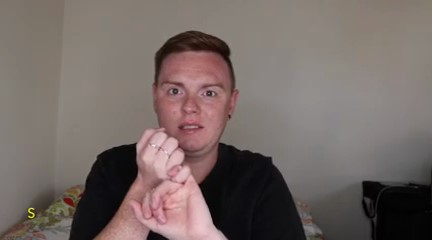S: (121, 118, 215, 240)
